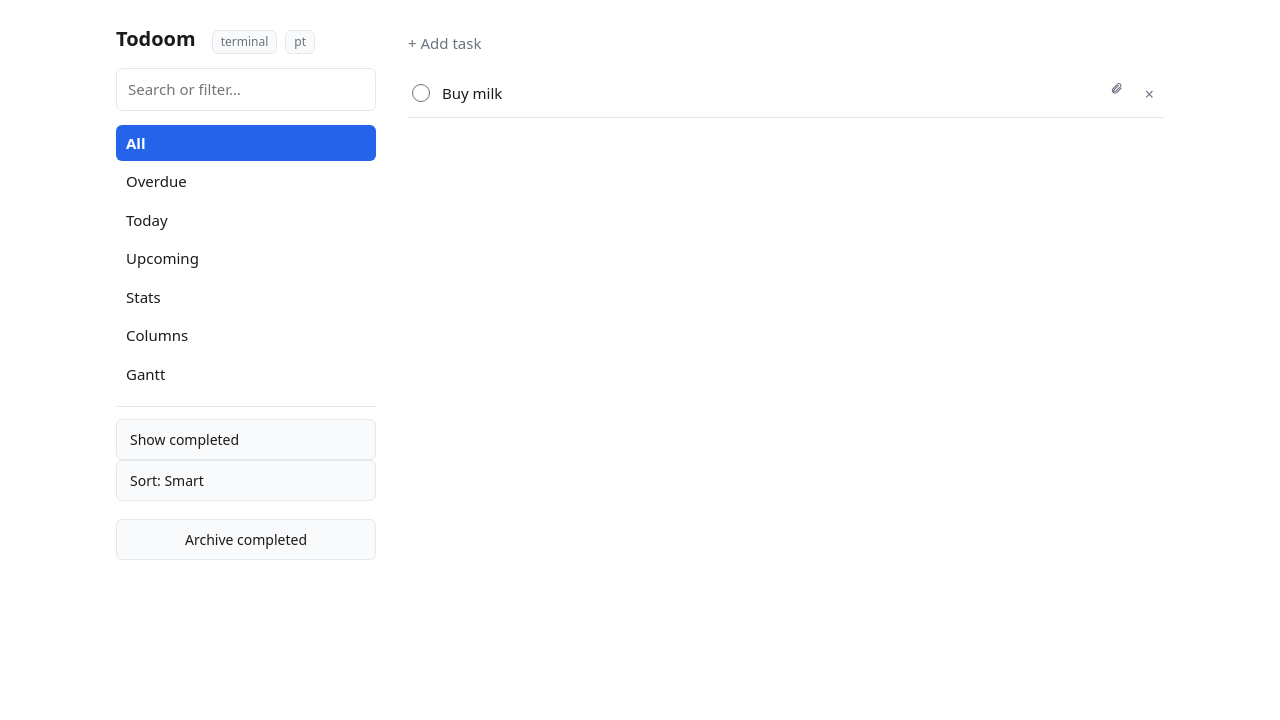
Test: task modal › closes on Escape
Click the text with class "task__text" at (472, 92), box top-left (442, 82), bottom-right (502, 102)
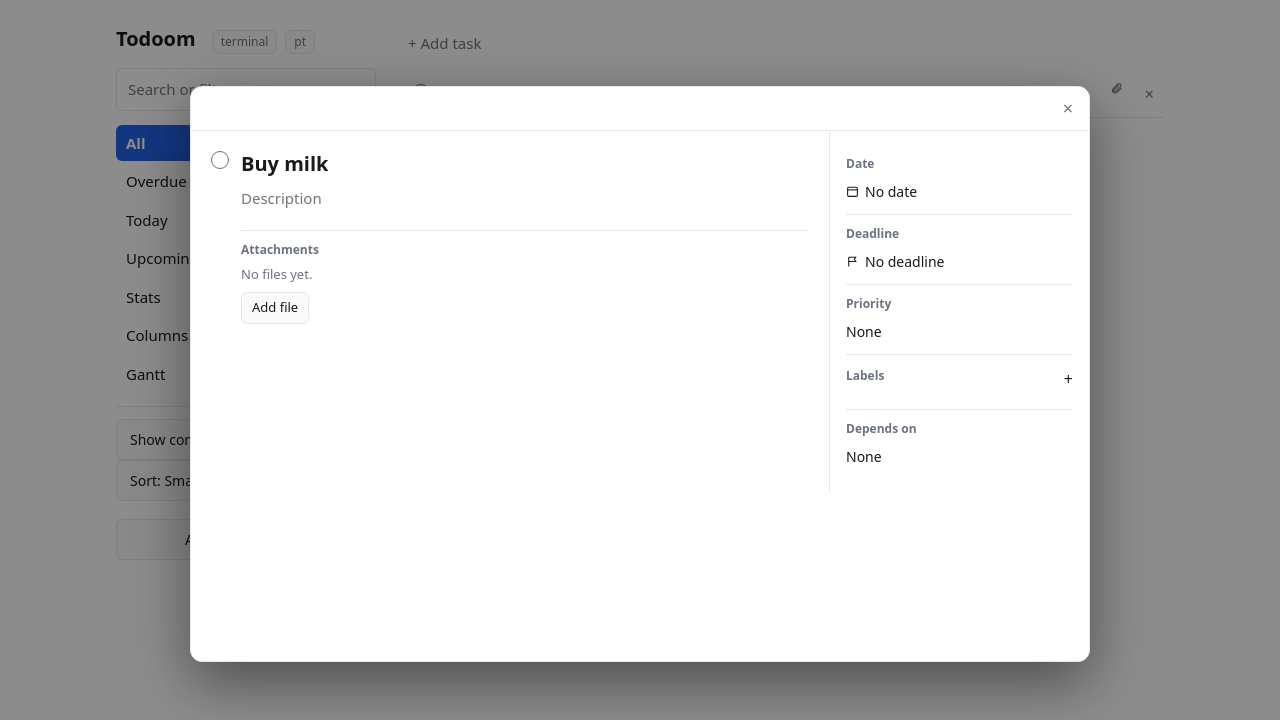
Press Escape in the dialog with class "task-modal", box top-left (190, 86), bottom-right (1090, 662)
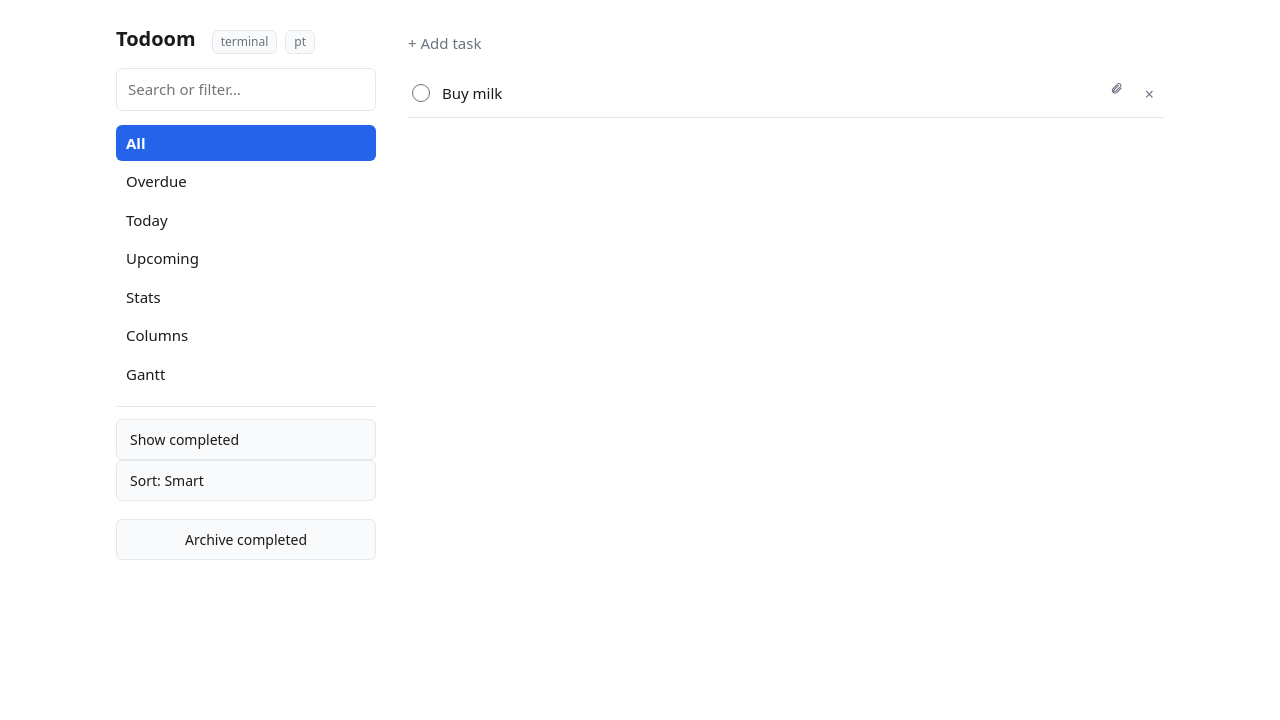
Expected: the dialog with class "task-modal" is gone
